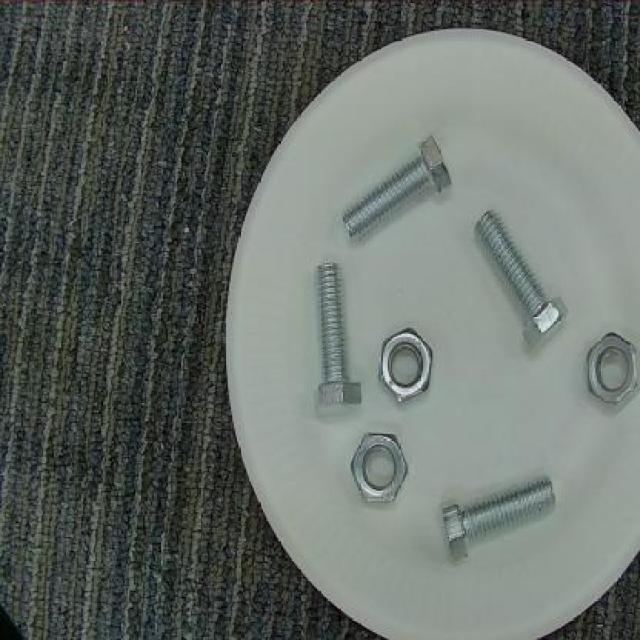Bolt: (476, 203, 571, 357), (339, 126, 454, 243), (440, 469, 562, 568), (310, 257, 366, 423)
Nut: (580, 329, 640, 415), (374, 326, 439, 403), (348, 431, 408, 512)
